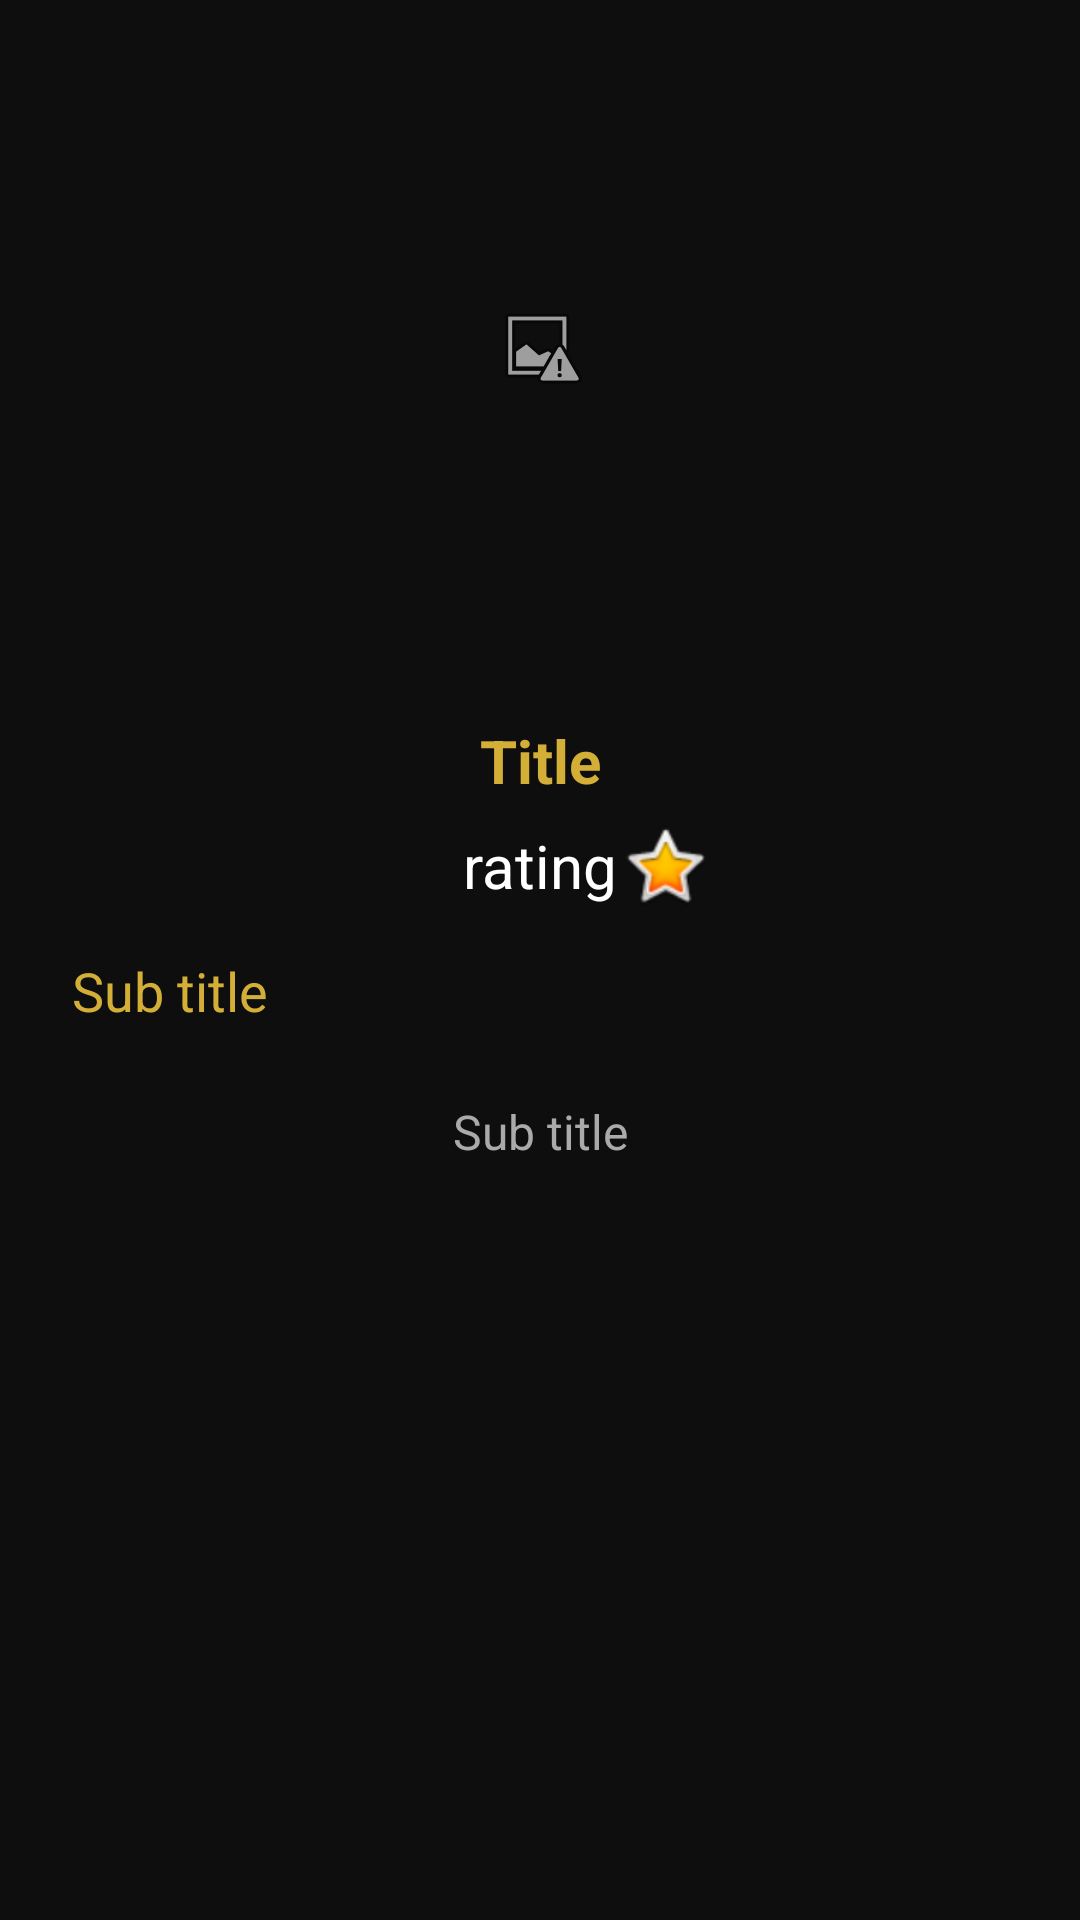

Icons on this 1080 x 1920 Android screen, each with its box as (x1, y1, x2, y2):
star on: (627, 829, 704, 902)
